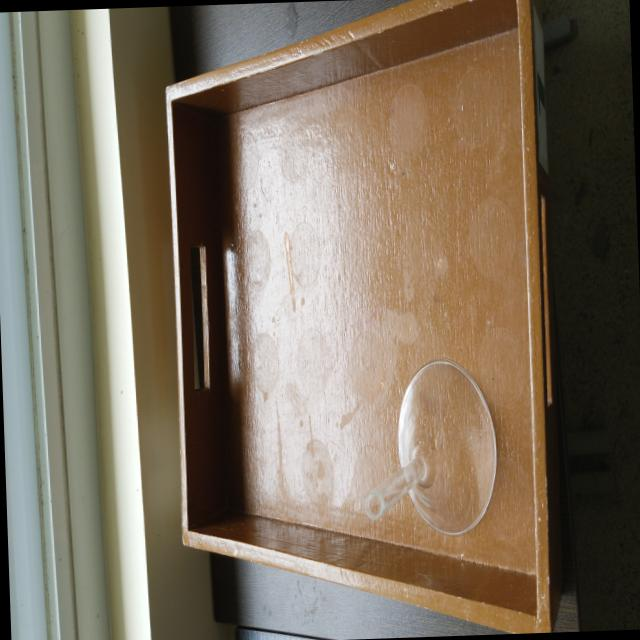funnel: (362, 350, 501, 554)
